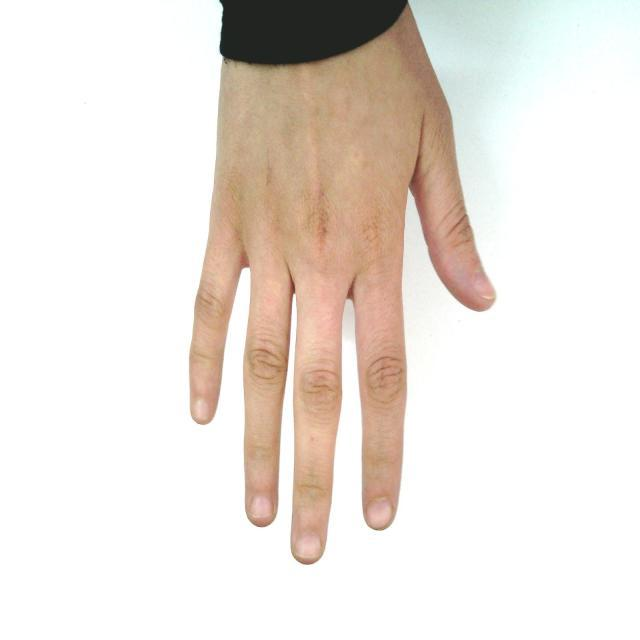Fingernail: (368, 500, 392, 528), (296, 536, 320, 558), (251, 498, 273, 521), (477, 276, 496, 298), (194, 400, 208, 421)
